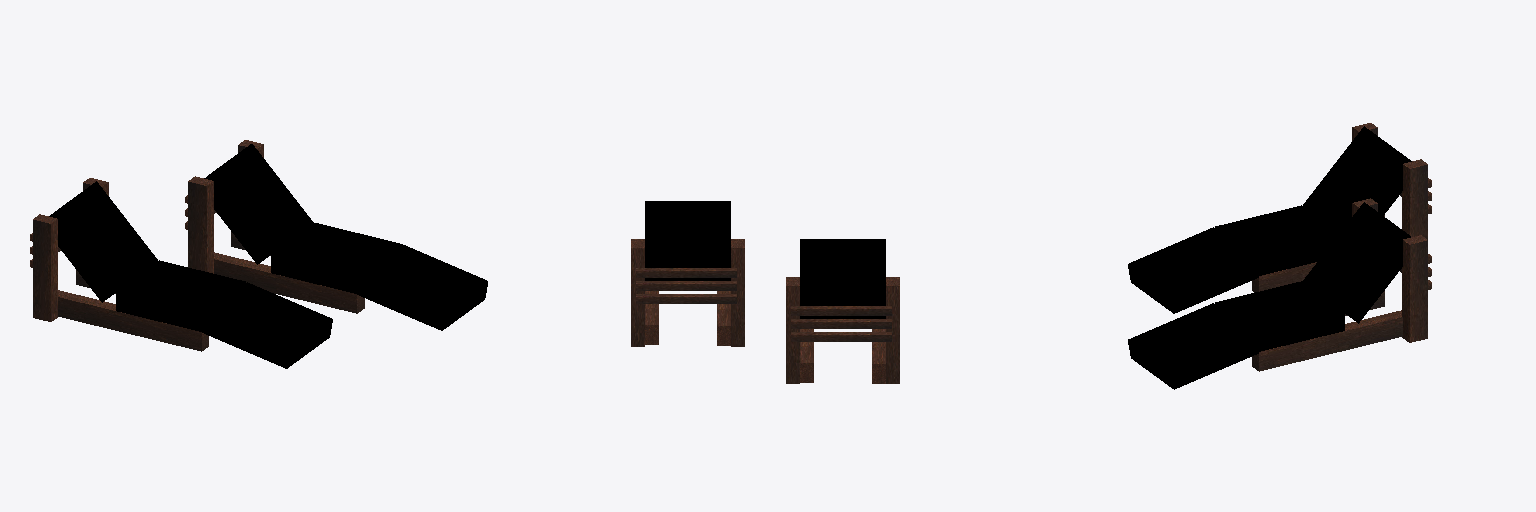
3 views of the same model, side by side, from view 1: azimuth 30°, elevation 25°; view 2: azimuth 150°, elevation 25°; view 3: azimuth 270°, elevation 25° (orthographic).
Visible parts, largest first — view 1: pCube302, pCube301; view 2: pCube301, pCube302; view 3: pCube301, pCube302.
Boxes of the visible parts, x1=… form: pCube302: x1=30, y1=178, x2=332, y2=368; pCube301: x1=185, y1=140, x2=487, y2=330; pCube301: x1=631, y1=201, x2=744, y2=346; pCube302: x1=786, y1=239, x2=899, y2=383; pCube301: x1=1128, y1=198, x2=1431, y2=389; pCube302: x1=1128, y1=123, x2=1431, y2=313.
Bounding box in the file's own units: 200 × 55.47 × 148.
Materials: 2 (1 with a texture image).